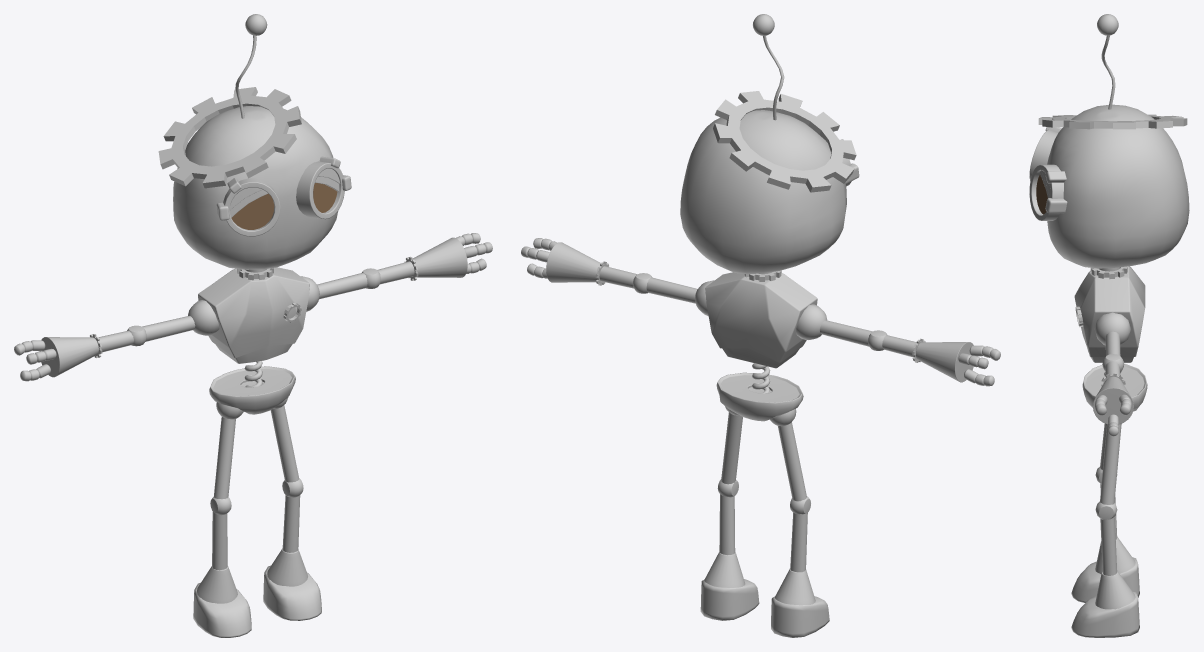
The model's file is RobotBoy_Complete.fbx.
3 renders of one model, left to right at view 1: azimuth 30°, elevation 25°; view 2: azimuth 150°, elevation 25°; view 3: azimuth 270°, elevation 25°, orthographic.
Parts seen in each view (by area): view 1: RobotBoy_Complete; view 2: RobotBoy_Complete; view 3: RobotBoy_Complete.
Boxes of the visible parts, bbox=[...] form: RobotBoy_Complete: bbox=[14, 14, 492, 637]; RobotBoy_Complete: bbox=[521, 14, 1000, 637]; RobotBoy_Complete: bbox=[1029, 14, 1189, 637].
Size of the model in its own units: 146 by 181 by 43.92.
